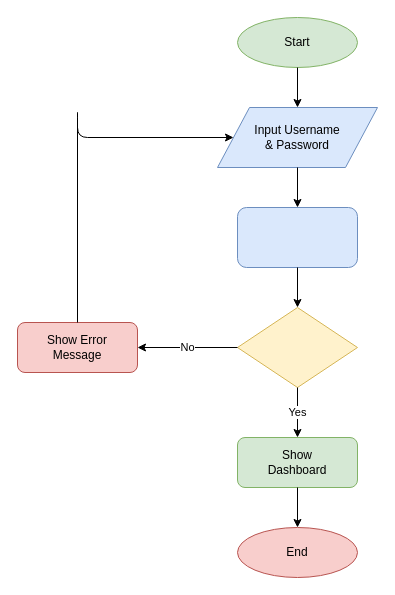
Some shapes in this 395 by 595 pixel diagram are drawn without their labels. The centre of each missing label's shape, as x and y in pixels:
"Valid?" belongs at point 297,347.
"Validate Credentials" belongs at point 297,237.
